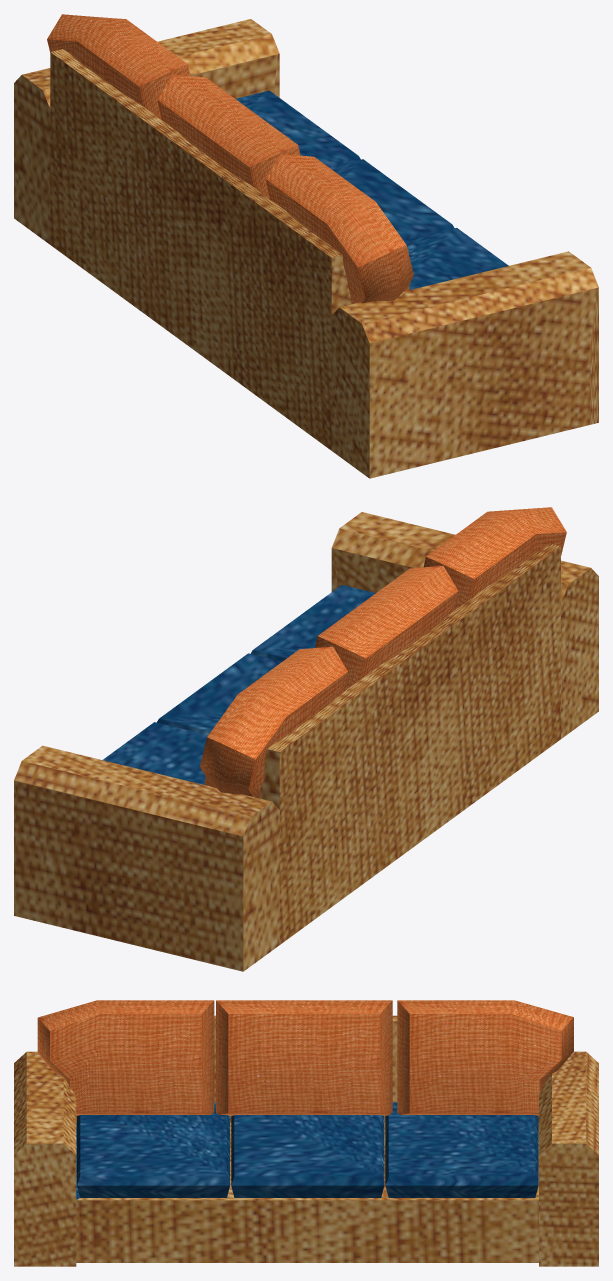
Rendered from sofa.FBX.
The picture shows the model from 3 angles, top to bottom: view 1: azimuth 30°, elevation 25°; view 2: azimuth 150°, elevation 25°; view 3: azimuth 270°, elevation 25°; orthographic projection. The views are drawn at different scales.
Parts seen in each view (by area): view 1: Box001, Box002, Box003, Box004, Object001, Object003, Object002; view 2: Box001, Box004, Box003, Box002, Object002, Object003, Object001; view 3: Box001, Box003, Box004, Box002, Object002, Object001, Object003.
Boxes of the visible parts, box(x1,y1,x2,y2) form: Box001: box(14, 19, 598, 478); Box002: box(265, 154, 413, 303); Box003: box(157, 74, 300, 198); Box004: box(47, 14, 190, 119); Object001: box(404, 228, 508, 289); Object003: box(329, 159, 454, 240); Object002: box(235, 90, 360, 167); Box001: box(14, 512, 598, 971); Box004: box(200, 646, 347, 798); Box003: box(315, 566, 458, 691); Box002: box(423, 507, 566, 610); Object002: box(102, 722, 208, 784); Object003: box(157, 653, 281, 734); Object001: box(250, 585, 375, 661); Box001: box(14, 1015, 598, 1266); Box003: box(216, 1000, 392, 1115); Box004: box(397, 1000, 573, 1115); Box002: box(37, 1000, 214, 1115); Object002: box(385, 1102, 538, 1197); Object001: box(76, 1102, 229, 1199); Object003: box(231, 1115, 384, 1197).
Size of the model in its own units: 605 by 574 by 1625.
Materials: 3 (3 with a texture image).
